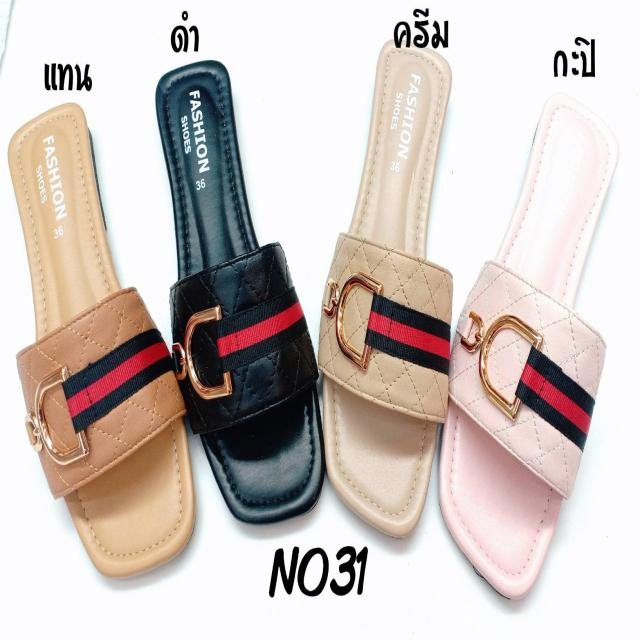black: (162, 59, 318, 522)
cream: (320, 39, 450, 538)
kapi: (446, 94, 616, 596)
tan: (7, 104, 193, 579)
